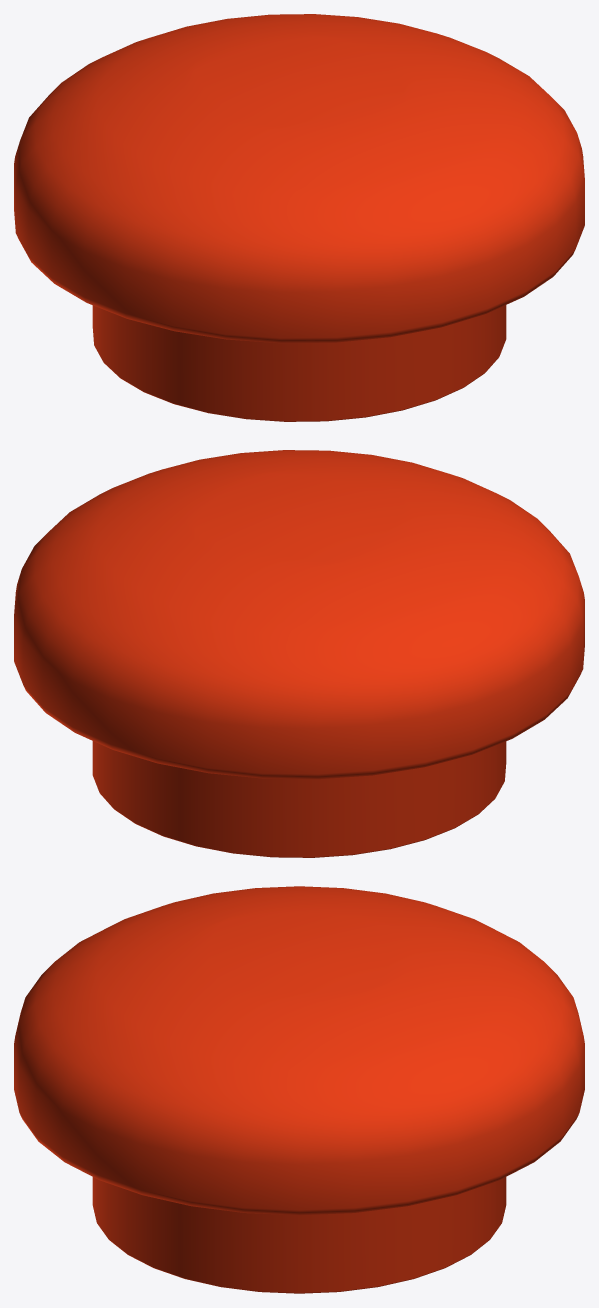
Rendered from kepala merah button.fbx.
3 views of the same model, one above another, from view 1: azimuth 30°, elevation 25°; view 2: azimuth 150°, elevation 25°; view 3: azimuth 270°, elevation 25° (orthographic).
Visible parts, largest first — view 1: Cylinder.001; view 2: Cylinder.001; view 3: Cylinder.001.
Boxes of the visible parts, <box> form: Cylinder.001: <box>14,14,584,421</box>; Cylinder.001: <box>14,450,584,857</box>; Cylinder.001: <box>14,886,584,1293</box>.
Size of the model in its own units: 56.94 by 28.42 by 56.94.
